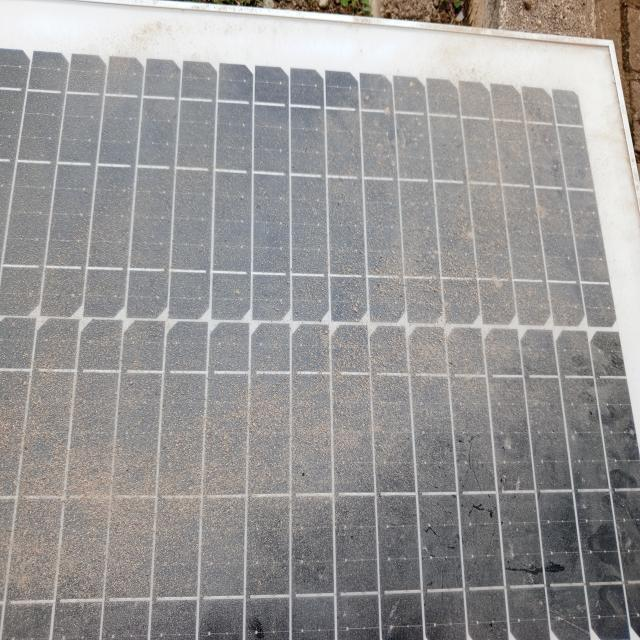Surface Contaminant: (5, 85, 556, 639)
